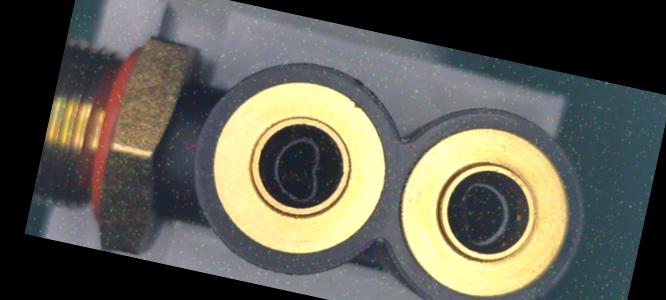off-centered: (256, 123, 337, 210), (439, 174, 521, 255)
